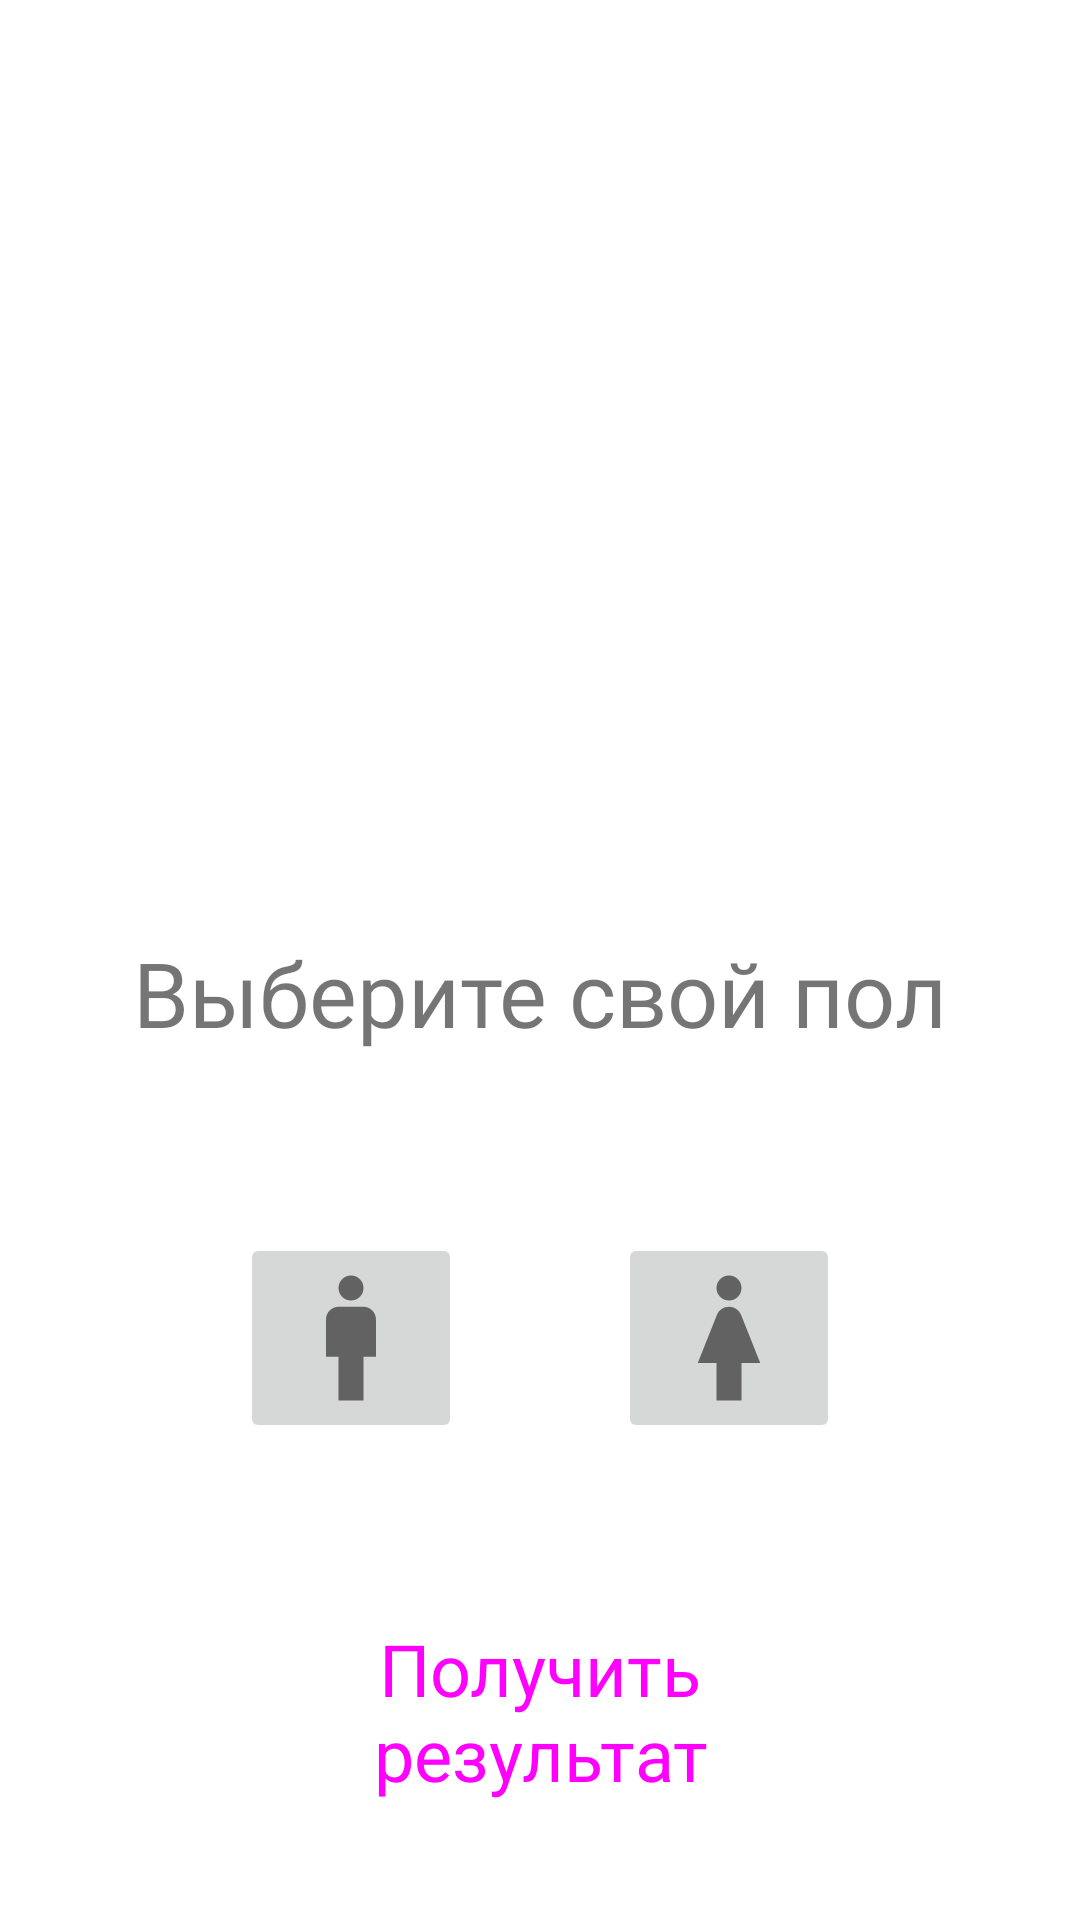

Named icons in this screenshot (1080×1920) and their centers, (x=x, y=y):
man: (x=351, y=1338)
woman: (x=729, y=1338)
